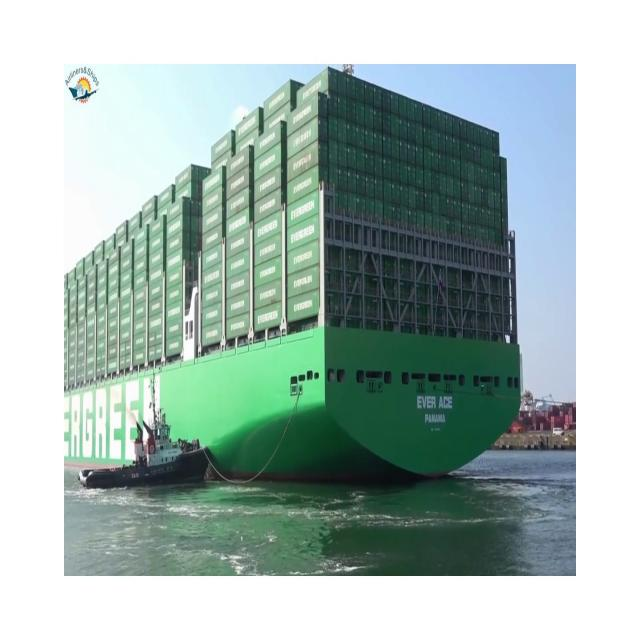OCR: (68, 368, 177, 480), (411, 380, 466, 449)
